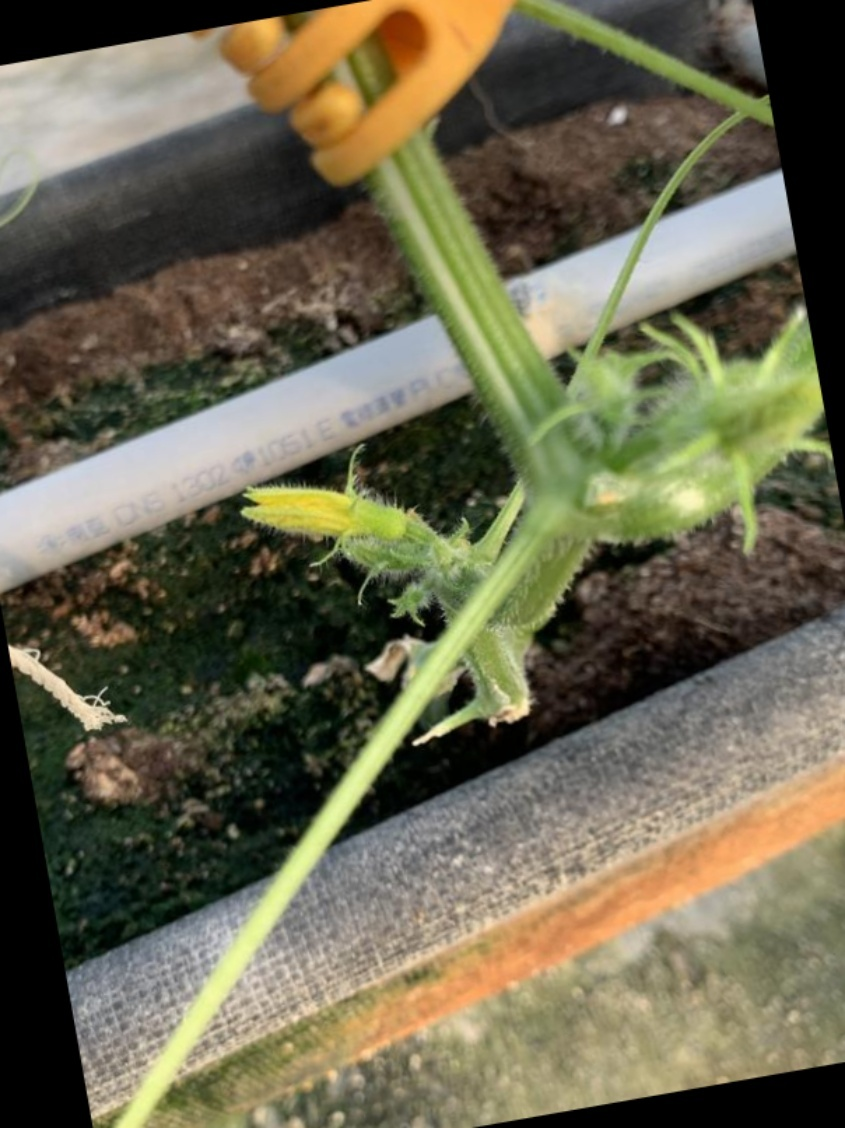bud: (243, 480, 428, 567)
